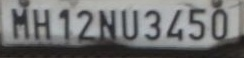character: (9, 7, 29, 40), (75, 9, 95, 41), (32, 8, 51, 41), (164, 9, 183, 41), (120, 8, 138, 41), (98, 8, 116, 40), (187, 8, 205, 40), (210, 8, 227, 41), (143, 9, 160, 40), (58, 8, 71, 41)
